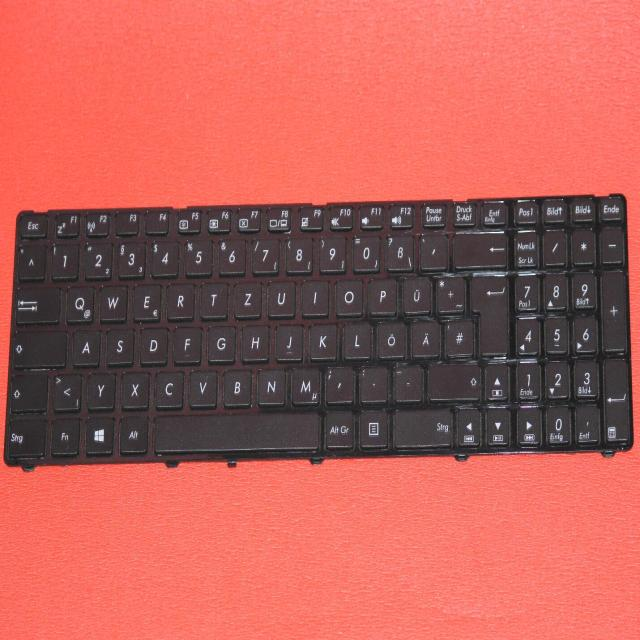0: (350, 233, 380, 270)
1: (49, 240, 79, 278)
2: (83, 239, 112, 278)
3: (116, 239, 144, 276)
4: (148, 238, 178, 275)
5: (182, 237, 212, 274)
6: (217, 236, 245, 273)
7: (250, 235, 278, 272)
8: (283, 235, 312, 272)
9: (316, 233, 346, 271)
a: (70, 327, 100, 365)
accent: (418, 231, 447, 268)
ae: (410, 317, 439, 357)
alt-left: (118, 413, 148, 452)
altgr-right: (323, 409, 354, 448)
b: (221, 367, 252, 406)
c: (154, 368, 184, 407)
caret: (17, 240, 45, 279)
comma: (324, 364, 354, 404)
d: (138, 324, 167, 364)
del: (452, 229, 507, 268)
e: (131, 281, 160, 320)
enter: (470, 272, 507, 356)
f: (173, 324, 201, 363)
g: (205, 323, 235, 360)
h: (239, 322, 269, 360)
hash: (443, 317, 473, 356)
i: (300, 277, 329, 314)
j: (274, 320, 303, 360)
k: (307, 320, 337, 359)
keyboard: (0, 184, 637, 474)
l: (341, 319, 370, 359)
less: (51, 371, 81, 410)
m: (289, 365, 320, 406)
minus: (392, 363, 422, 402)
n: (256, 366, 286, 404)
o: (333, 276, 363, 314)
oe: (376, 319, 405, 357)
p: (368, 275, 397, 313)
plus: (435, 272, 465, 313)
point: (359, 365, 388, 402)
q: (64, 283, 94, 322)
r: (165, 280, 194, 318)
s: (104, 326, 133, 365)
shift-left: (8, 371, 47, 412)
shift-lock: (12, 327, 66, 366)
shift-right: (427, 360, 480, 399)
space: (151, 410, 320, 451)
ss: (385, 232, 413, 270)
strg-left: (5, 415, 46, 458)
strg-right: (394, 408, 454, 447)
t: (199, 278, 227, 317)
tab: (14, 283, 60, 324)
u: (265, 278, 295, 316)
ue: (402, 274, 430, 313)
v: (187, 367, 218, 406)
w: (98, 282, 127, 321)
x: (120, 369, 150, 408)
y: (86, 370, 115, 409)
z: (232, 277, 261, 316)
